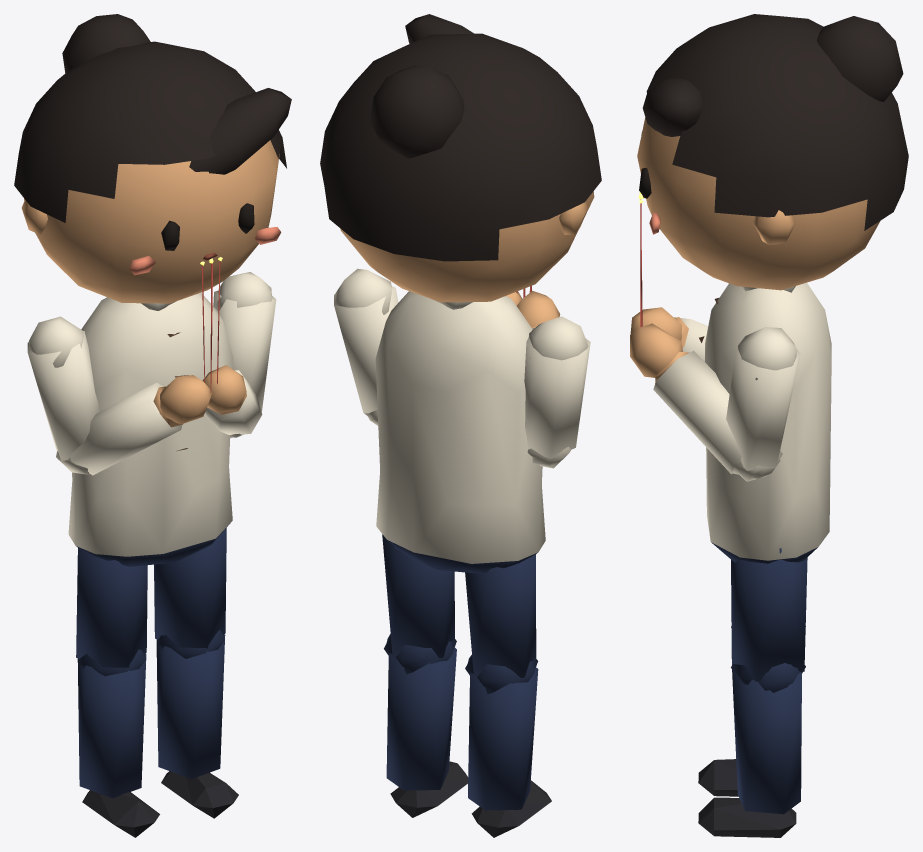
File: east_incense_woman.glb
3 views of the same model, side by side, from view 1: azimuth 30°, elevation 25°; view 2: azimuth 150°, elevation 25°; view 3: azimuth 270°, elevation 25° (orthographic). The views are drawn at different scales.
Parts seen in each view (by area): view 1: head, body, shin_L, shin_R, leg_R, forearm_R, arm_R, leg_L, arm_L, forearm_L, prop_incense; view 2: head, body, shin_L, shin_R, arm_R, leg_R, leg_L, arm_L, forearm_R; view 3: head, body, shin_L, leg_L, arm_L, forearm_L, forearm_R, shin_R.
Part boxes in pixels (x1,y1,x2,y2): head: (14,14,291,303); body: (68,292,233,566); shin_L: (156,631,238,818); shin_R: (77,653,159,837); leg_R: (76,548,147,676); forearm_R: (58,375,212,475); arm_R: (27,316,99,474); leg_L: (154,528,226,658); arm_L: (213,272,276,437); forearm_L: (202,365,262,437); prop_incense: (200,257,222,392); head: (320,14,601,302); body: (375,291,545,573); shin_L: (386,634,468,817); shin_R: (468,655,551,837); arm_R: (524,316,590,468); leg_R: (465,554,537,686); leg_L: (382,534,456,666); arm_L: (334,268,398,417); forearm_R: (517,290,564,467); head: (637,14,908,290); body: (699,282,831,563); shin_L: (698,663,801,837); leg_L: (731,548,807,690); arm_L: (726,327,800,481); forearm_L: (630,323,780,478); forearm_R: (630,307,708,361); shin_R: (698,626,738,796).
Bounding box in the file's own units: 0.4966 × 1.48 × 0.4685.
